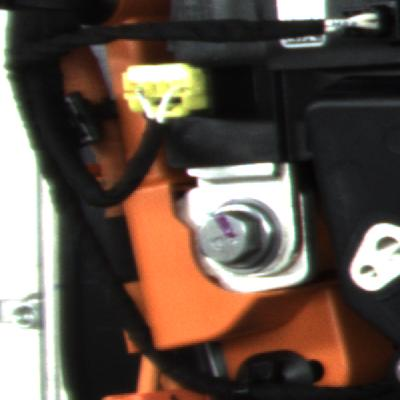nut_b: (188, 189, 291, 289)
